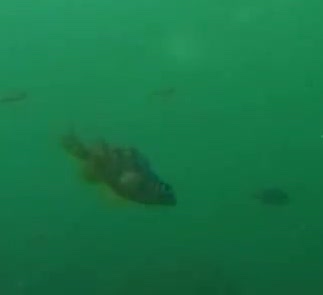smallfish: (63, 123, 186, 208)
